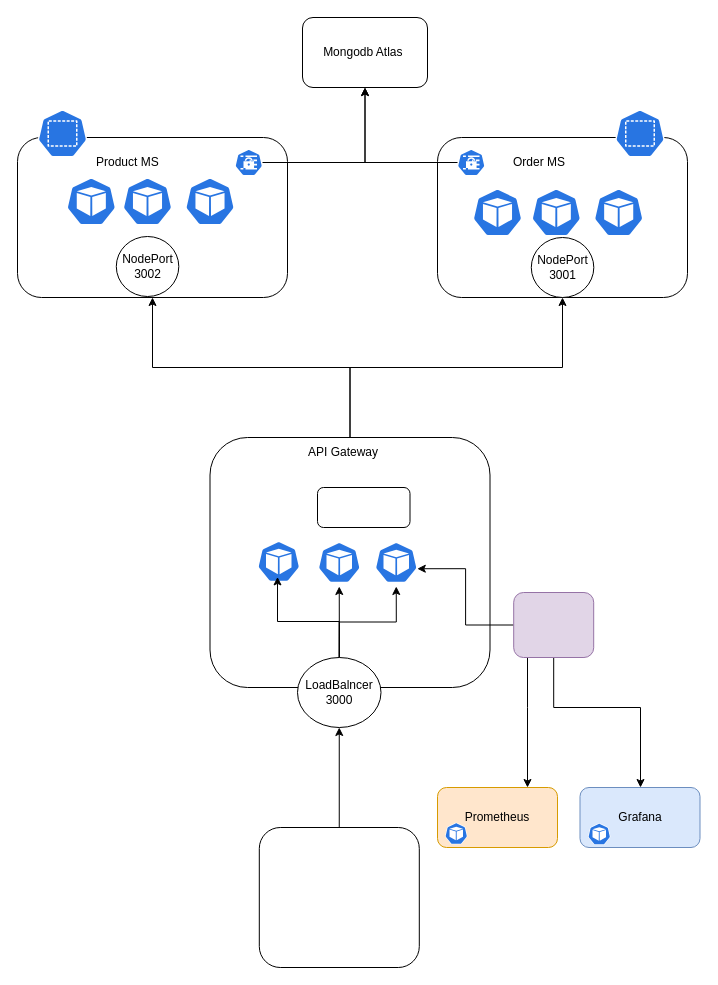
Image size: 718x985. Some labels were removed from this diagram. Each missing label, with the centre of its shape:
ConfigMap: pixel 363 507
Front Tier: pixel 338 897
Helm chart: pixel 553 625
